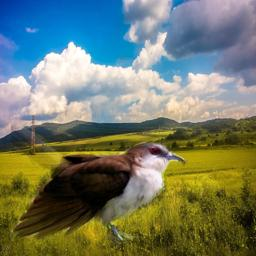Cuckoo: (11, 74, 188, 247)
